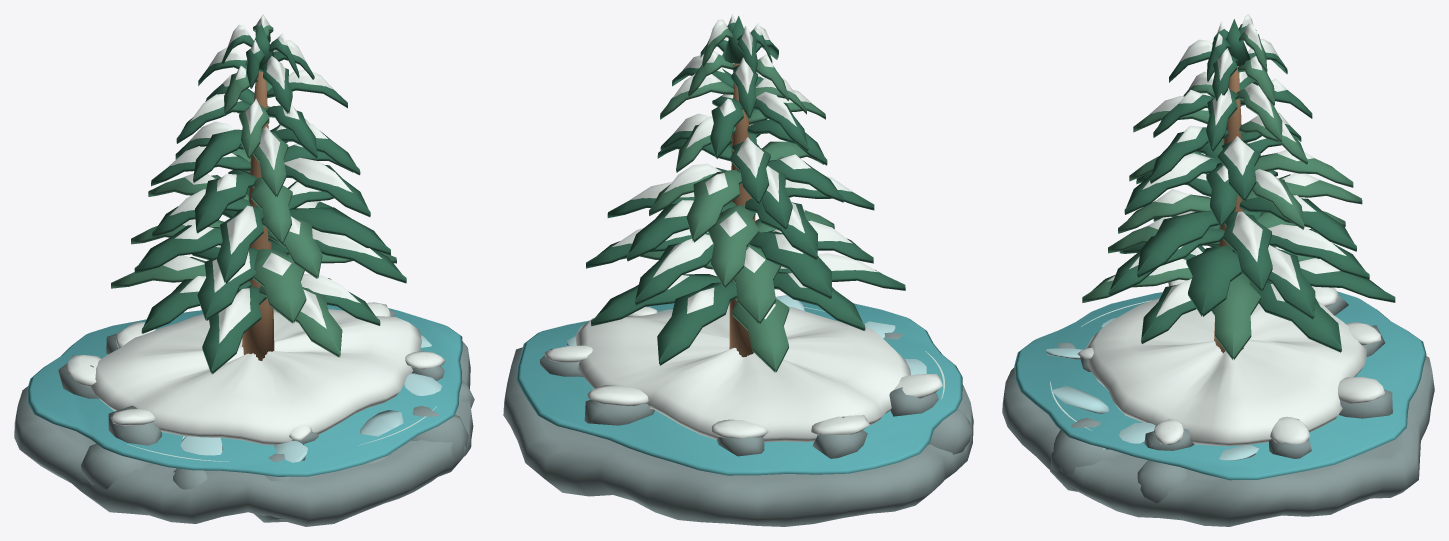
File: snowy-island-v6.glb
3 views of the same model, side by side, from view 1: azimuth 30°, elevation 25°; view 2: azimuth 150°, elevation 25°; view 3: azimuth 270°, elevation 25° (orthographic). The views are drawn at different scales.
Parts seen in each view (by area): view 1: Snowy | Snow | soft, Snowy | Rock | blue grey, Snowy | Pine | needles, Snowy | Sea | icy turquoise, Snowy | Pine | sunlit needles, Snowy | Ice | pale blue, Snowy | Pine | bark; view 2: Snowy | Snow | soft, Snowy | Rock | blue grey, Snowy | Pine | needles, Snowy | Sea | icy turquoise, Snowy | Pine | sunlit needles, Snowy | Pine | bark, Snowy | Ice | pale blue; view 3: Snowy | Snow | soft, Snowy | Pine | needles, Snowy | Rock | blue grey, Snowy | Sea | icy turquoise, Snowy | Pine | sunlit needles, Snowy | Ice | pale blue, Snowy | Pine | bark.
Boxes of the visible parts, bbox=[...] form: Snowy | Snow | soft: bbox=[65, 14, 445, 445]; Snowy | Rock | blue grey: bbox=[14, 309, 474, 526]; Snowy | Pine | needles: bbox=[134, 23, 406, 374]; Snowy | Sea | icy turquoise: bbox=[27, 305, 462, 476]; Snowy | Pine | sunlit needles: bbox=[111, 25, 396, 357]; Snowy | Ice | pale blue: bbox=[180, 335, 441, 462]; Snowy | Pine | bark: bbox=[242, 70, 274, 360]; Snowy | Snow | soft: bbox=[544, 14, 942, 442]; Snowy | Rock | blue grey: bbox=[503, 332, 973, 526]; Snowy | Pine | needles: bbox=[586, 16, 905, 365]; Snowy | Sea | icy turquoise: bbox=[516, 301, 962, 475]; Snowy | Pine | sunlit needles: bbox=[621, 28, 834, 372]; Snowy | Pine | bark: bbox=[729, 63, 755, 357]; Snowy | Ice | pale blue: bbox=[566, 295, 926, 375]; Snowy | Snow | soft: bbox=[1077, 14, 1384, 446]; Snowy | Pine | needles: bbox=[1108, 19, 1395, 352]; Snowy | Rock | blue grey: bbox=[1002, 294, 1434, 526]; Snowy | Sea | icy turquoise: bbox=[1014, 291, 1426, 480]; Snowy | Pine | sunlit needles: bbox=[1082, 32, 1362, 359]; Snowy | Ice | pale blue: bbox=[1046, 317, 1258, 460]; Snowy | Pine | bark: bbox=[1214, 66, 1243, 353].
Size of the model in its own units: 1.64 by 1.6 by 1.44.
